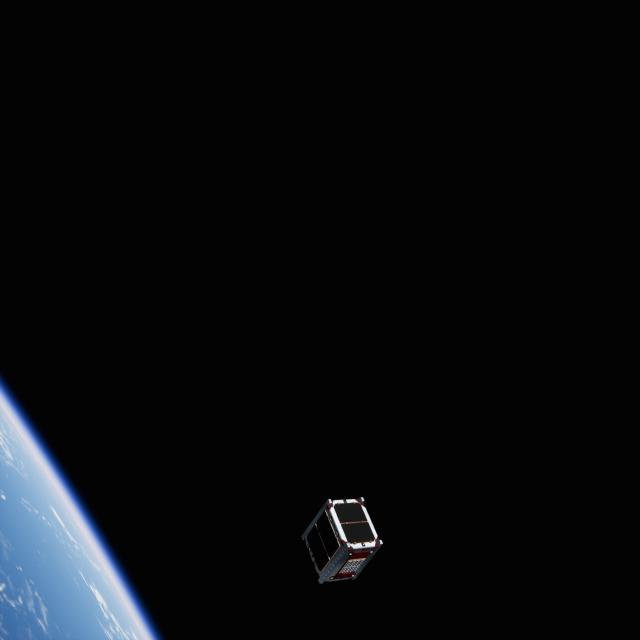satellite: (297, 498, 388, 590)
